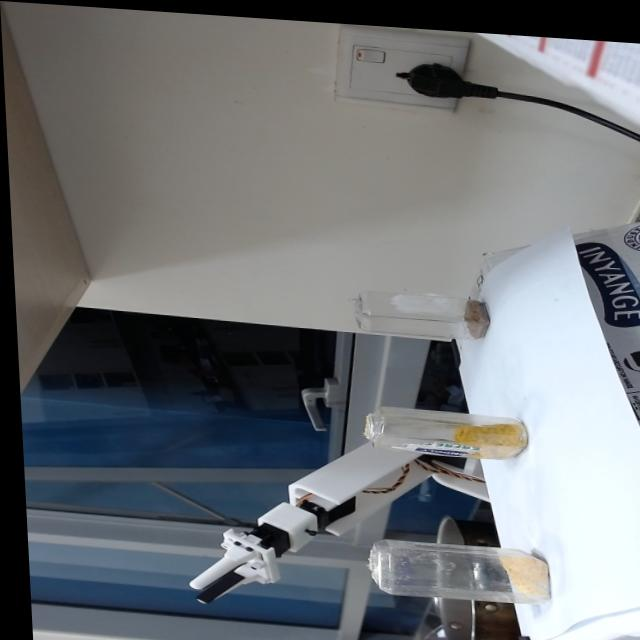cooking_pot: (424, 591, 550, 640)
curry_powder: (445, 412, 525, 454)
garlic_powder: (495, 537, 544, 596)
maggie_open: (457, 291, 487, 332)
